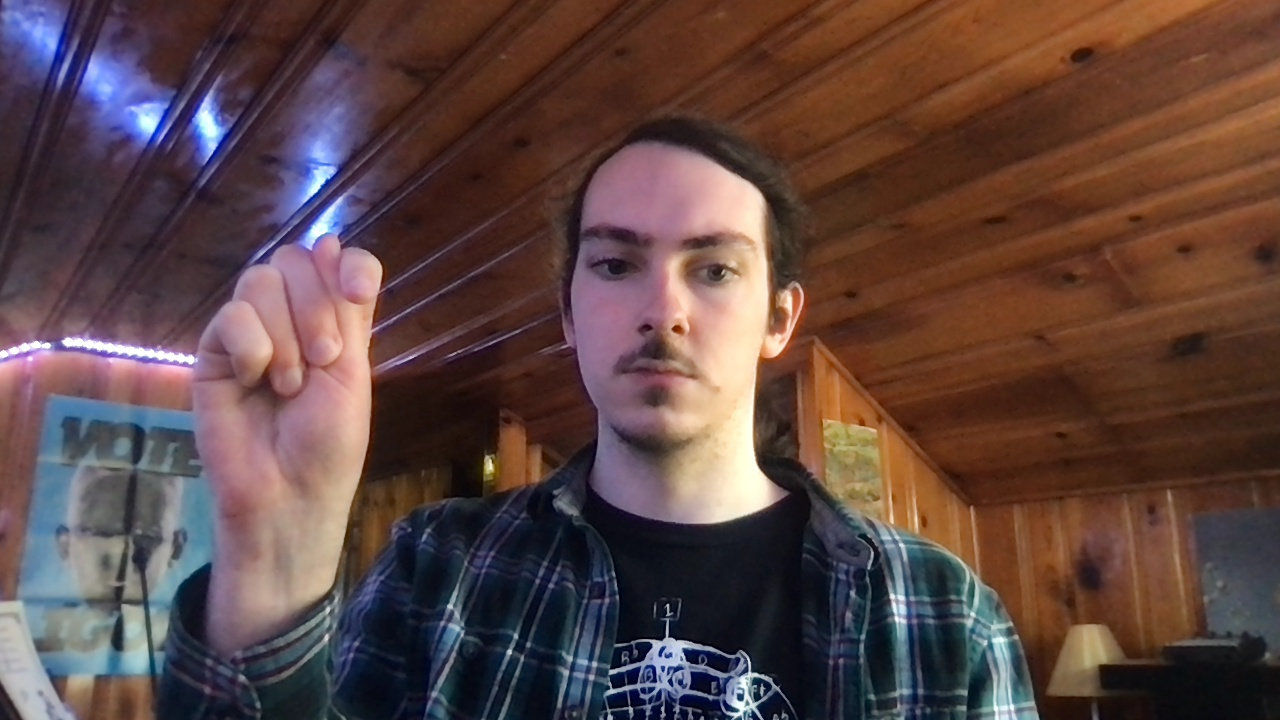t: (189, 231, 385, 525)
